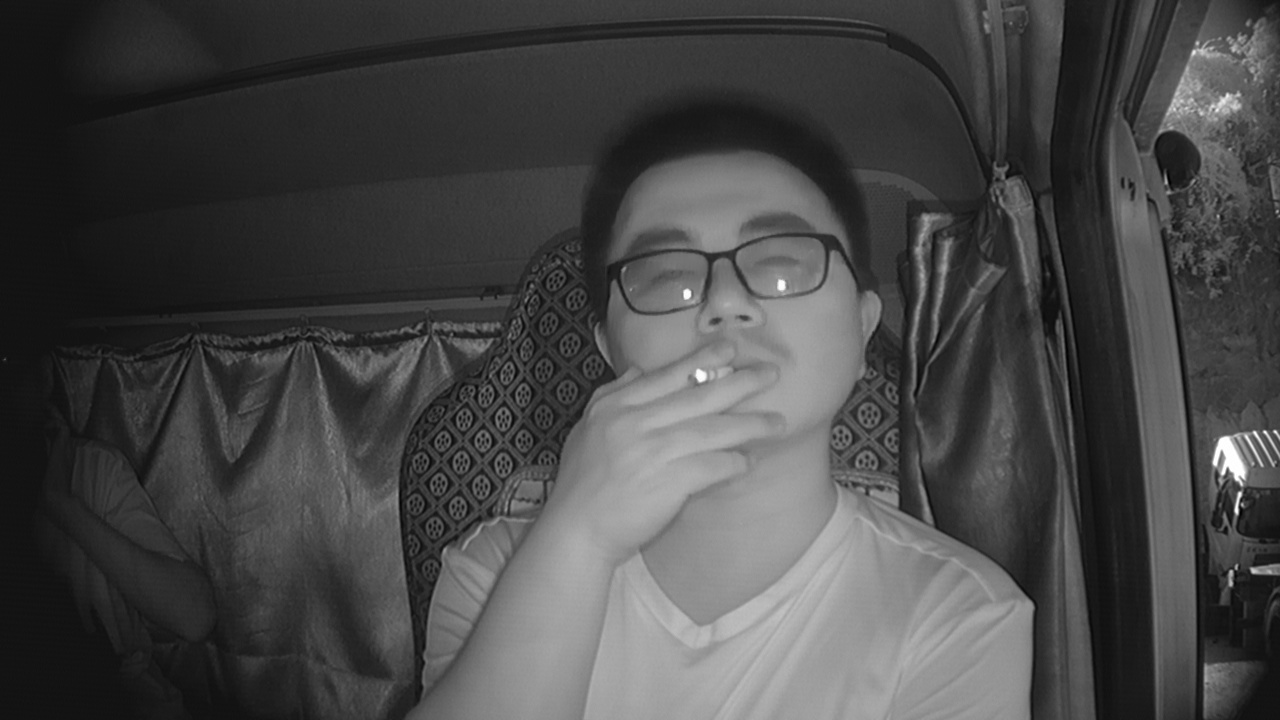hand: (624, 340, 778, 502)
